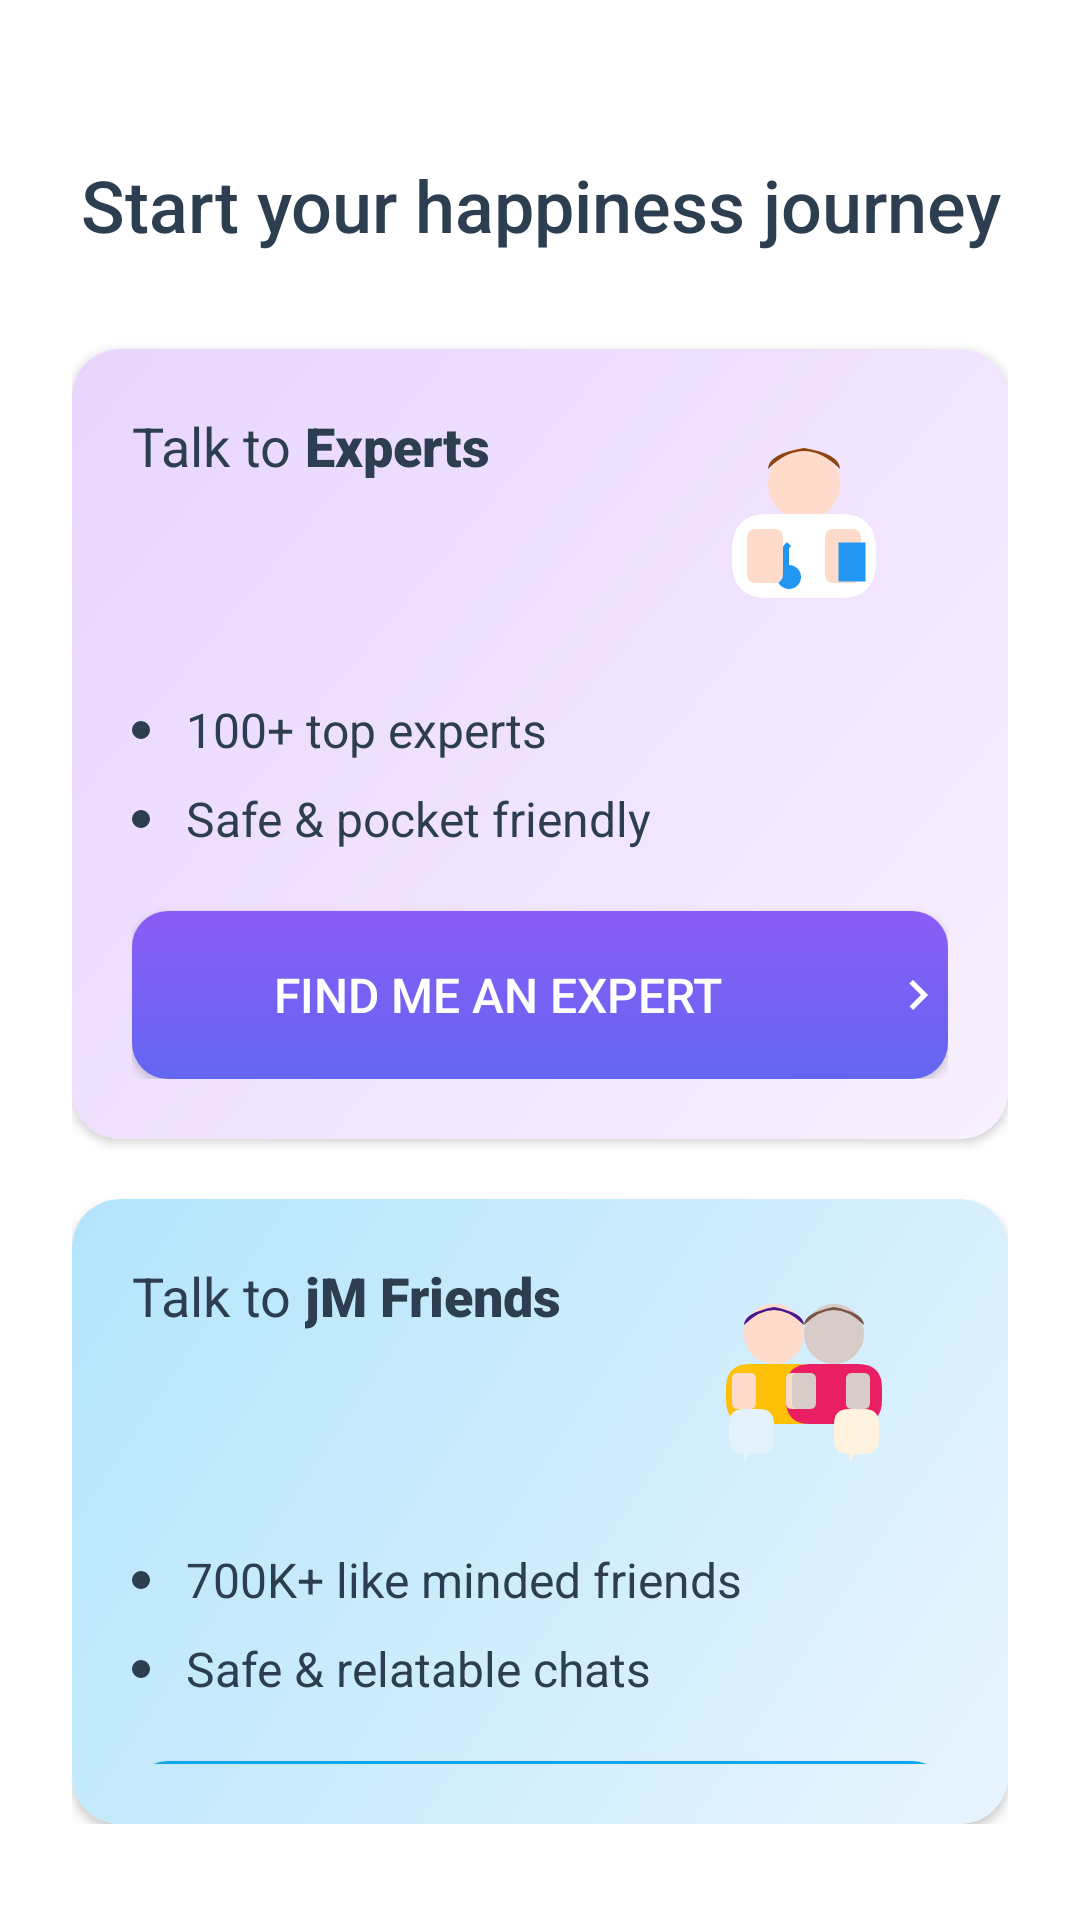

Named icons in this screenshot (1080px x 1920px) and their bounding boxes, (x1, y1, x2, y2):
expert illustration: (732, 448, 876, 598)
friends illustration: (726, 1304, 882, 1462)
